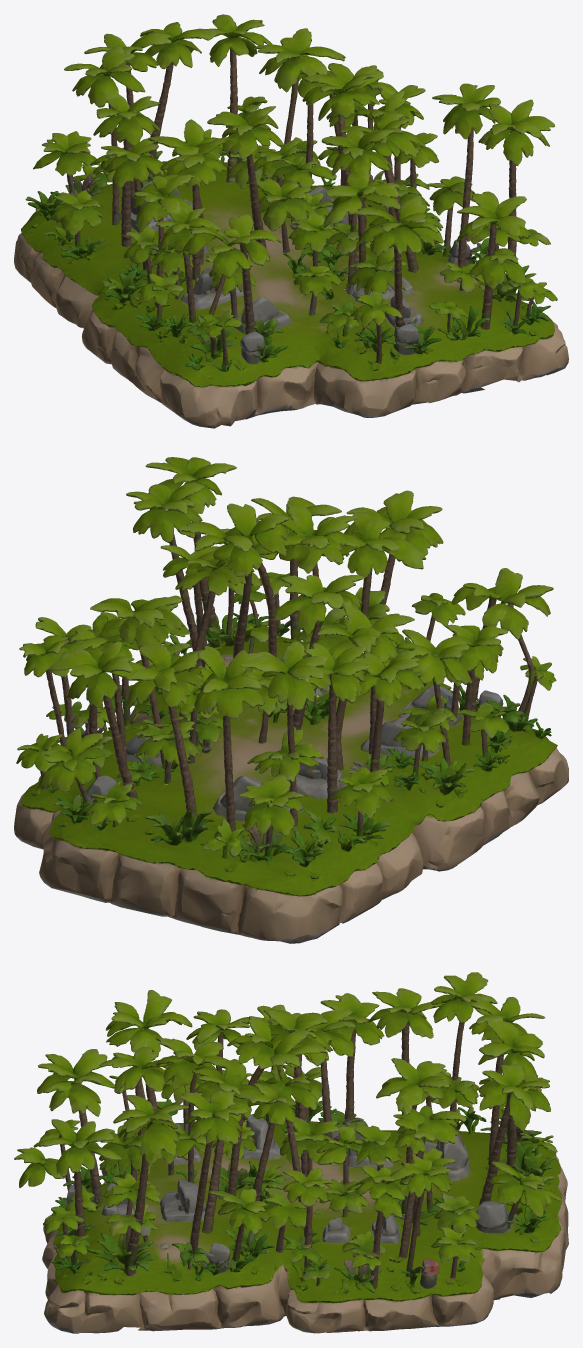
File: Jungle_Island_03.glb
3 renders of one model, top to bottom at view 1: azimuth 30°, elevation 25°; view 2: azimuth 150°, elevation 25°; view 3: azimuth 270°, elevation 25°, orthographic. The views are drawn at different scales.
Visible parts, largest first — view 1: 003; view 2: 003; view 3: 003.
Boxes of the visible parts, x1,y1,x2,y2 form: 003: (14,14,568,428); 003: (14,457,568,943); 003: (14,972,568,1333).
Size of the model in its own units: 94.42 by 57.9 by 119.
Materials: 1 (1 with a texture image).
